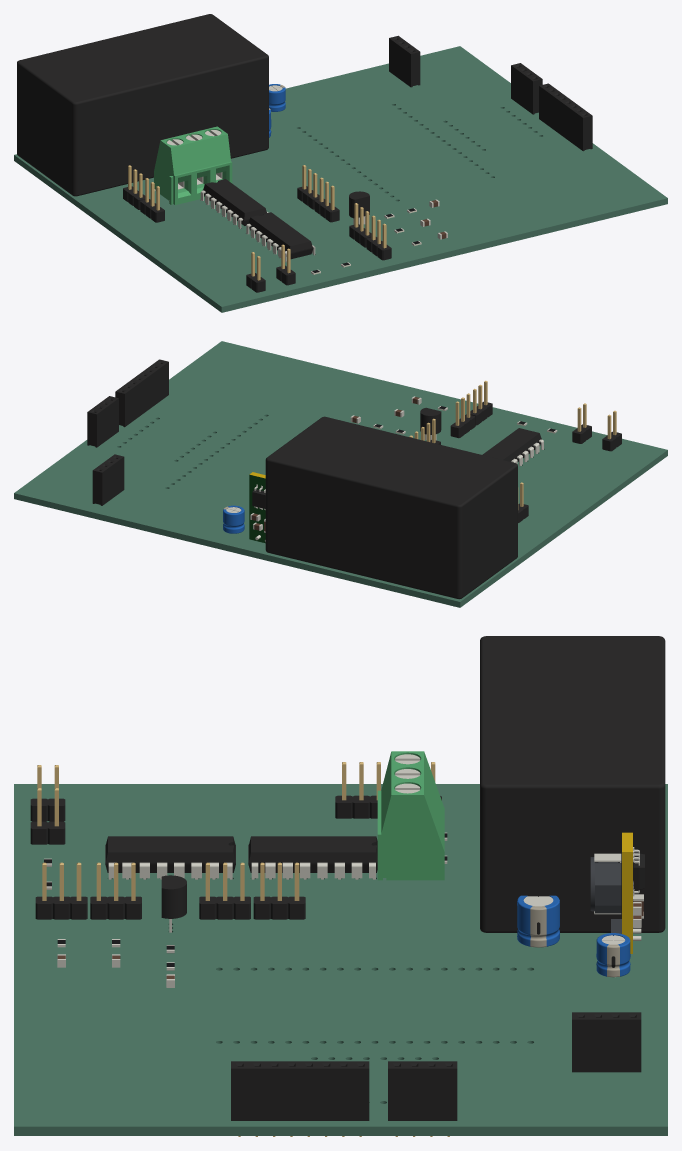
Rendered from pcb_3d.glb.
The picture shows the model from 3 angles, top to bottom: view 1: azimuth 30°, elevation 25°; view 2: azimuth 150°, elevation 25°; view 3: azimuth 270°, elevation 25°; orthographic projection. The views are drawn at different scales.
Parts seen in each view (by area): view 1: =>[0:1:1:28], =>[0:1:1:15], =>[0:1:1:19], =>[0:1:1:3] (×6), =>[0:1:1:5] (×2), =>[0:1:1:17] (×2), =>[0:1:1:21], =>[0:1:1:13] (×2), =>[0:1:1:7], =>[0:1:1:23]; view 2: =>[0:1:1:28], =>[0:1:1:15], =>[0:1:1:17] (×2), =>[0:1:1:21], =>[0:1:1:5], =>[0:1:1:3] (×2), =>[0:1:1:25], =>[0:1:1:13] (×2), =>[0:1:1:23], =>[0:1:1:7]; view 3: =>[0:1:1:28], =>[0:1:1:15], =>[0:1:1:5] (×2), =>[0:1:1:3] (×5), =>[0:1:1:17] (×2), =>[0:1:1:21], =>[0:1:1:19], =>[0:1:1:25], =>[0:1:1:27], =>[0:1:1:13] (×2), =>[0:1:1:23], =>[0:1:1:7].
Boxes of the visible parts, x1,y1,x2,y2 form: =>[0:1:1:28]: [14, 46, 667, 312]; =>[0:1:1:15]: [17, 14, 268, 196]; =>[0:1:1:19]: [154, 126, 232, 205]; =>[0:1:1:3] (×6): [123, 165, 391, 260]; =>[0:1:1:5] (×2): [200, 179, 315, 262]; =>[0:1:1:17] (×2): [389, 35, 542, 114]; =>[0:1:1:21]: [539, 83, 592, 151]; =>[0:1:1:13] (×2): [246, 244, 295, 292]; =>[0:1:1:7]: [349, 191, 369, 224]; =>[0:1:1:23]: [269, 84, 285, 111]; =>[0:1:1:28]: [14, 341, 667, 607]; =>[0:1:1:15]: [265, 416, 517, 606]; =>[0:1:1:17] (×2): [87, 396, 124, 505]; =>[0:1:1:21]: [115, 359, 168, 427]; =>[0:1:1:5]: [482, 428, 543, 466]; =>[0:1:1:3] (×2): [450, 380, 492, 438]; =>[0:1:1:25]: [249, 472, 265, 543]; =>[0:1:1:13] (×2): [572, 403, 621, 451]; =>[0:1:1:23]: [223, 505, 244, 533]; =>[0:1:1:7]: [420, 407, 441, 440]; =>[0:1:1:28]: [14, 784, 667, 1135]; =>[0:1:1:15]: [480, 636, 665, 932]; =>[0:1:1:5] (×2): [105, 836, 377, 879]; =>[0:1:1:3] (×5): [35, 762, 380, 919]; =>[0:1:1:17] (×2): [388, 1012, 641, 1136]; =>[0:1:1:21]: [231, 1061, 369, 1136]; =>[0:1:1:19]: [377, 751, 444, 880]; =>[0:1:1:25]: [590, 832, 644, 953]; =>[0:1:1:27]: [517, 895, 559, 947]; =>[0:1:1:13] (×2): [30, 765, 65, 844]; =>[0:1:1:23]: [596, 933, 630, 977]; =>[0:1:1:7]: [161, 875, 186, 932].
Size of the model in its own units: 0.119 by 0.0276 by 0.096.
